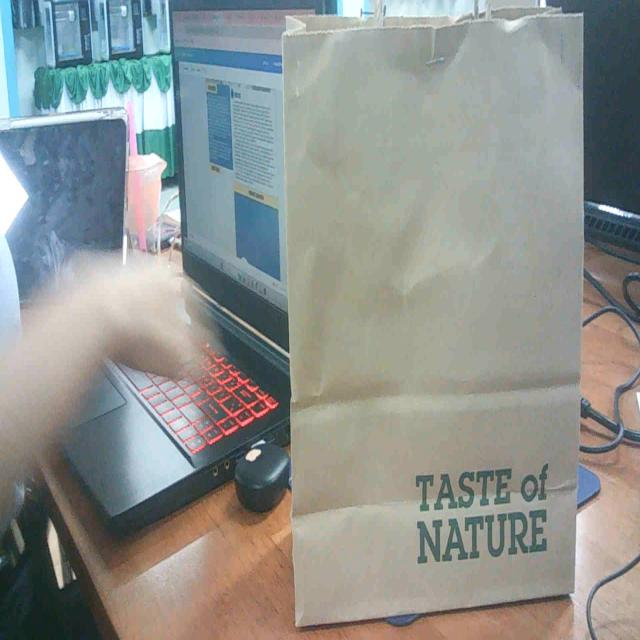bag: (260, 0, 600, 622)
